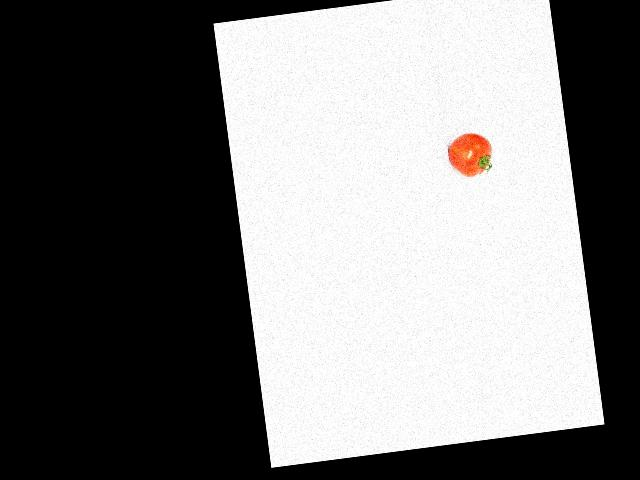tomato: (446, 130, 495, 179)
